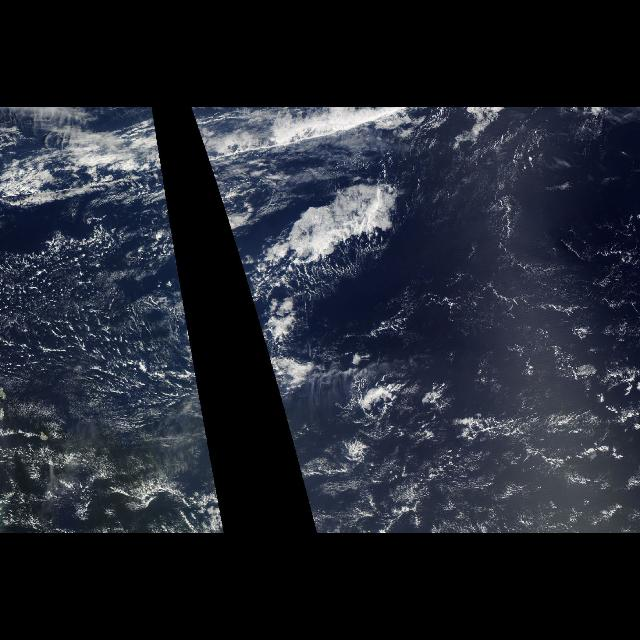Gravel: (337, 269, 639, 533)
Sugar: (363, 153, 635, 533), (0, 224, 194, 410)
